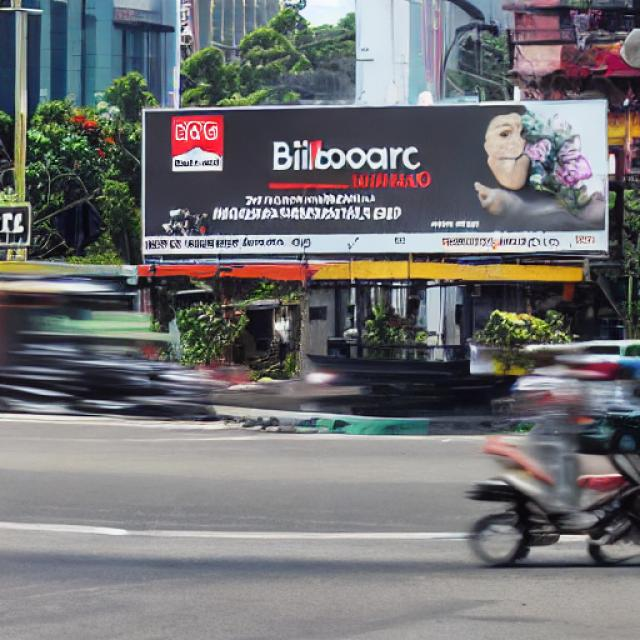Billboard: (136, 96, 612, 266)
